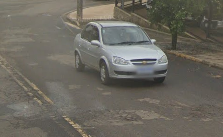car: (72, 17, 171, 90)
